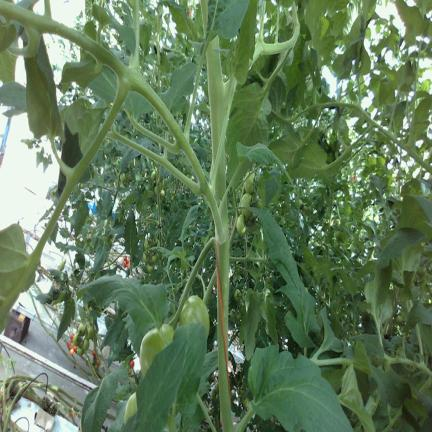6kp_peduncle: (183, 209, 229, 301)
6kp_petiole: (202, 173, 229, 276)
MainStem: (215, 201, 235, 431), (207, 36, 224, 164)
tomato: (140, 323, 174, 375), (179, 295, 209, 337), (124, 392, 137, 424), (240, 193, 251, 218), (244, 172, 254, 194), (236, 214, 246, 235), (238, 298, 245, 315), (86, 324, 93, 339), (142, 251, 150, 264), (255, 196, 263, 209), (73, 332, 79, 346), (144, 238, 151, 250), (151, 253, 159, 263), (83, 338, 89, 350), (234, 289, 240, 301), (78, 323, 85, 332), (77, 347, 84, 356), (120, 173, 126, 183), (230, 308, 235, 319), (151, 170, 156, 181), (147, 264, 153, 273), (298, 199, 303, 209), (236, 310, 241, 320), (335, 218, 340, 226), (155, 238, 160, 246), (160, 189, 165, 197), (243, 290, 247, 299), (68, 340, 72, 349), (160, 181, 164, 190), (70, 347, 74, 355), (70, 334, 74, 341), (303, 206, 308, 211), (92, 350, 96, 356), (97, 359, 100, 366)
